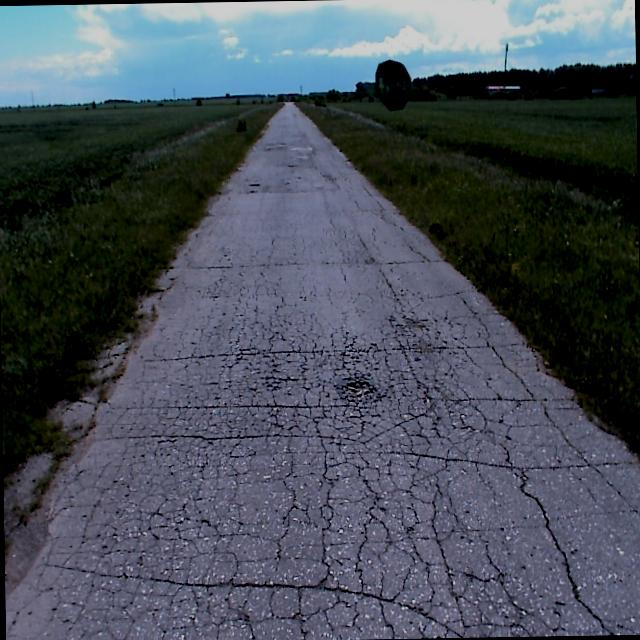road: (4, 106, 640, 640)
